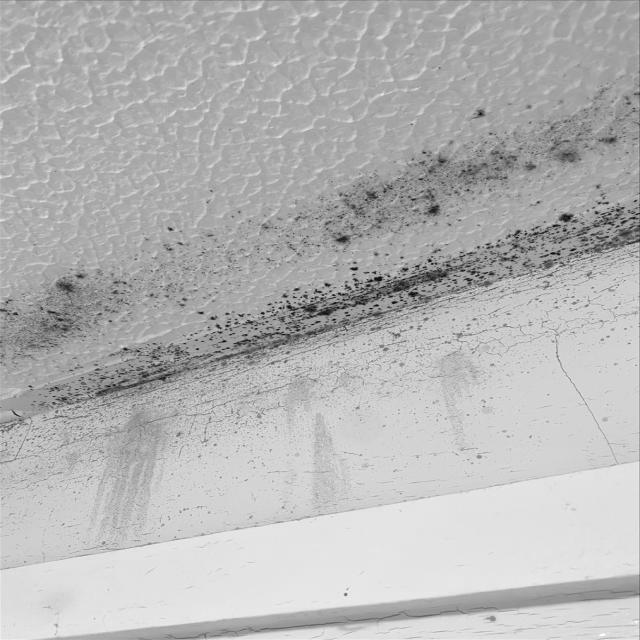stain marks: (0, 61, 640, 574)
